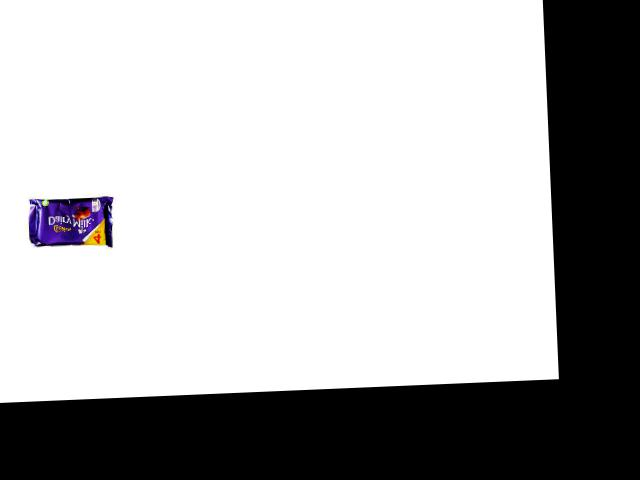chocolate: (24, 188, 124, 250)
